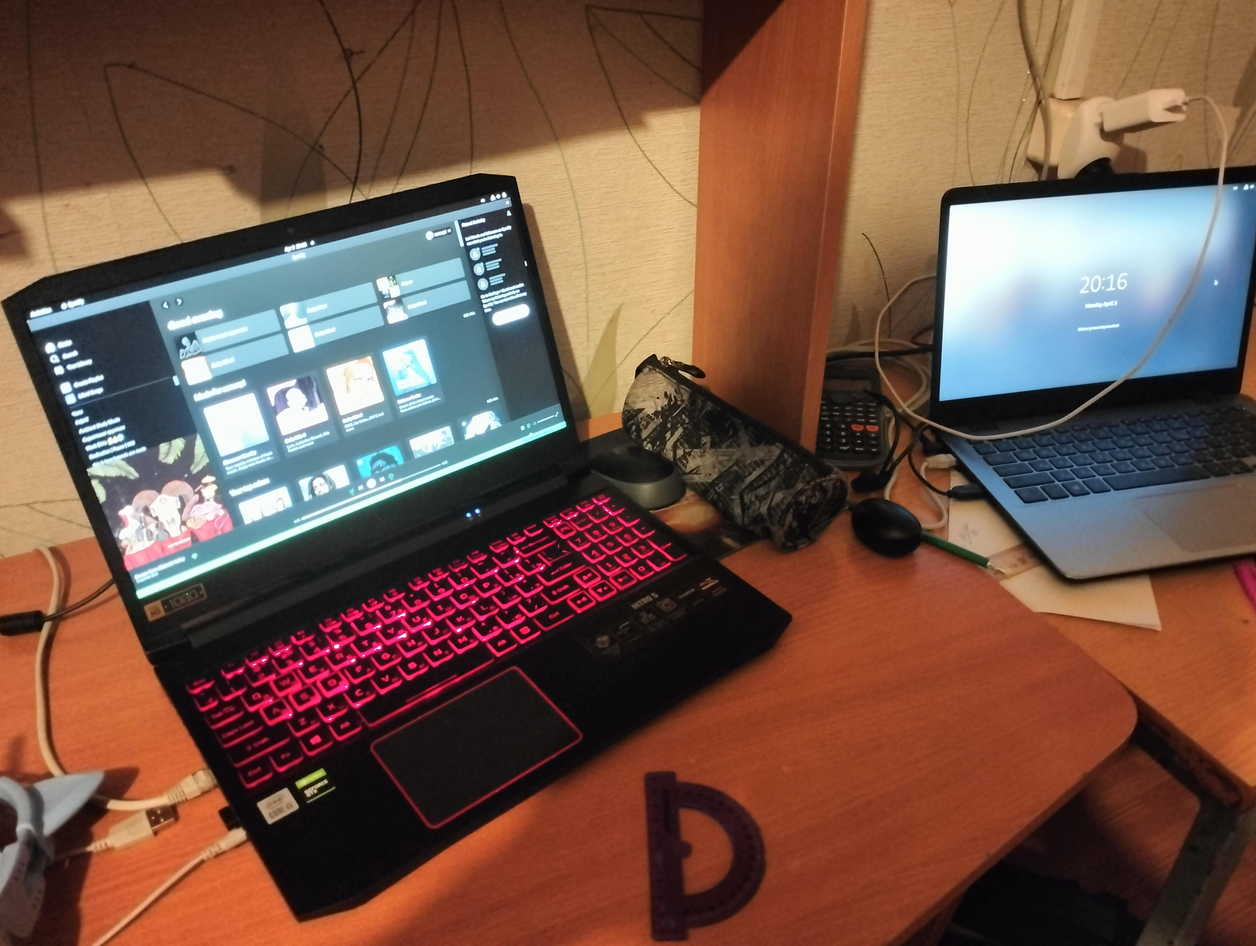monitor: (0, 166, 586, 654), (924, 160, 1256, 394)
